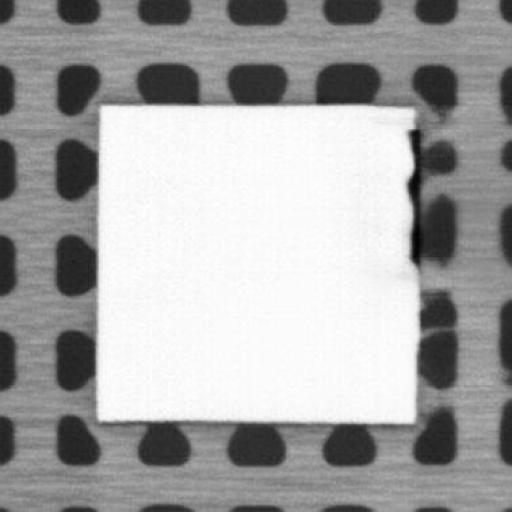DIE_BROKEN: (402, 124, 422, 268)
